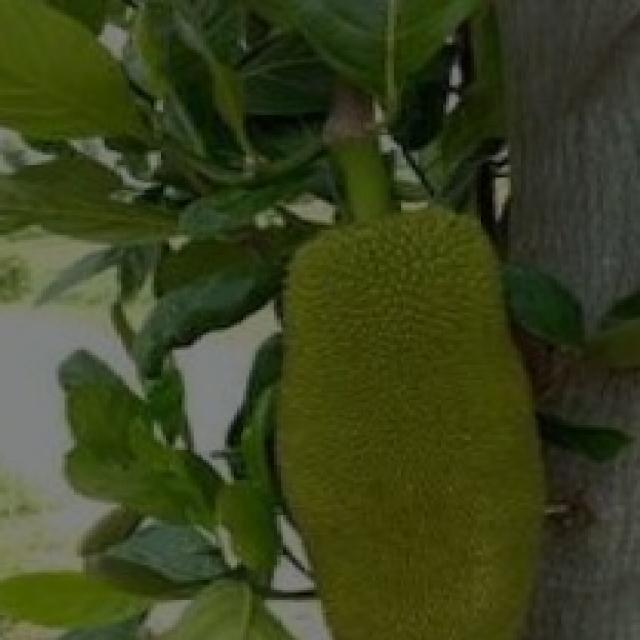Fruit: (215, 195, 588, 630)
